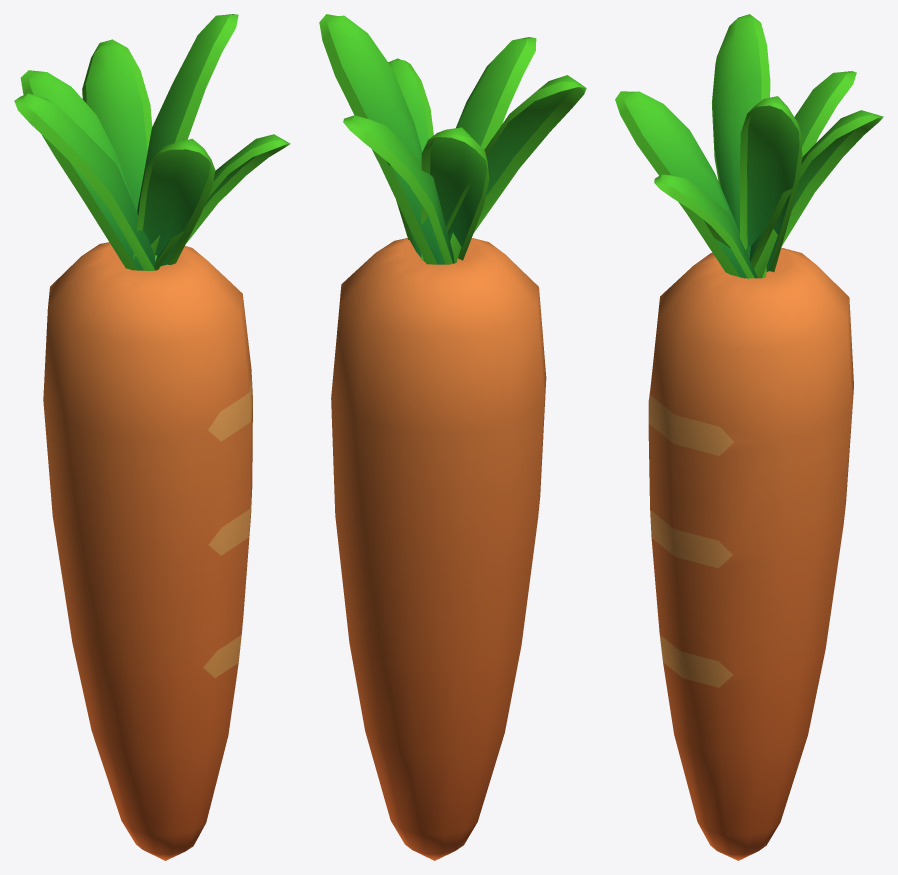
File: SM_Carrot_1.glb
3 views of the same model, side by side, from view 1: azimuth 30°, elevation 25°; view 2: azimuth 150°, elevation 25°; view 3: azimuth 270°, elevation 25° (orthographic). The views are drawn at different scales.
Visible parts, largest first — view 1: SM_Carrot_1; view 2: SM_Carrot_1; view 3: SM_Carrot_1.
Boxes of the visible parts, x1=… form: SM_Carrot_1: x1=14, y1=14, x2=290, y2=860; SM_Carrot_1: x1=319, y1=14, x2=586, y2=860; SM_Carrot_1: x1=615, y1=14, x2=883, y2=860.
Bounding box in the file's own units: 0.1837 × 0.6009 × 0.1833.
Materials: 1 (1 with a texture image).
